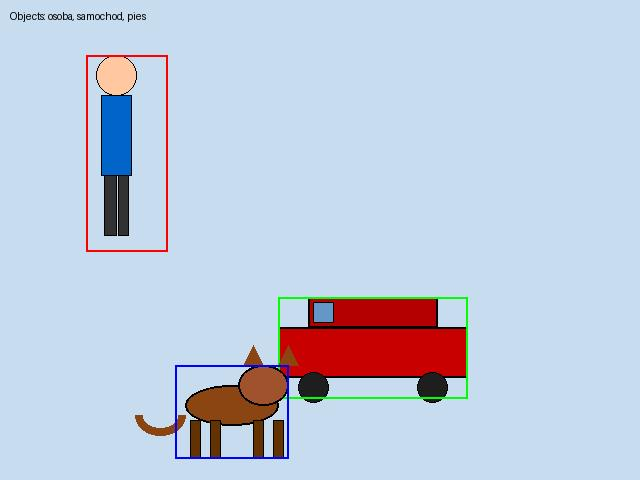osoba: (86, 55, 167, 251)
pies: (175, 365, 288, 458)
samochod: (278, 297, 467, 398)
